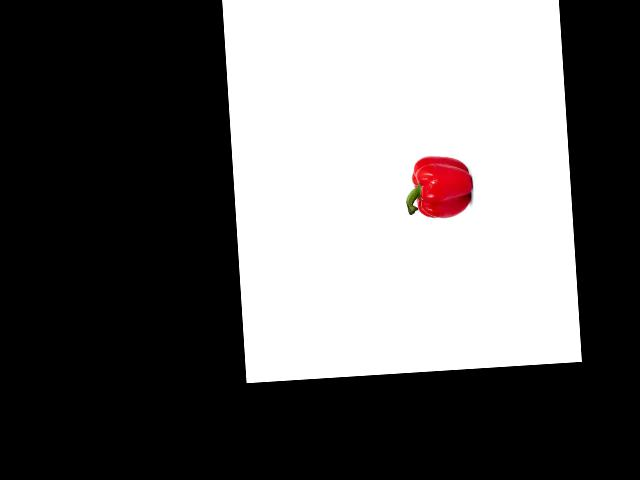bell_pepper: (402, 150, 474, 222)
